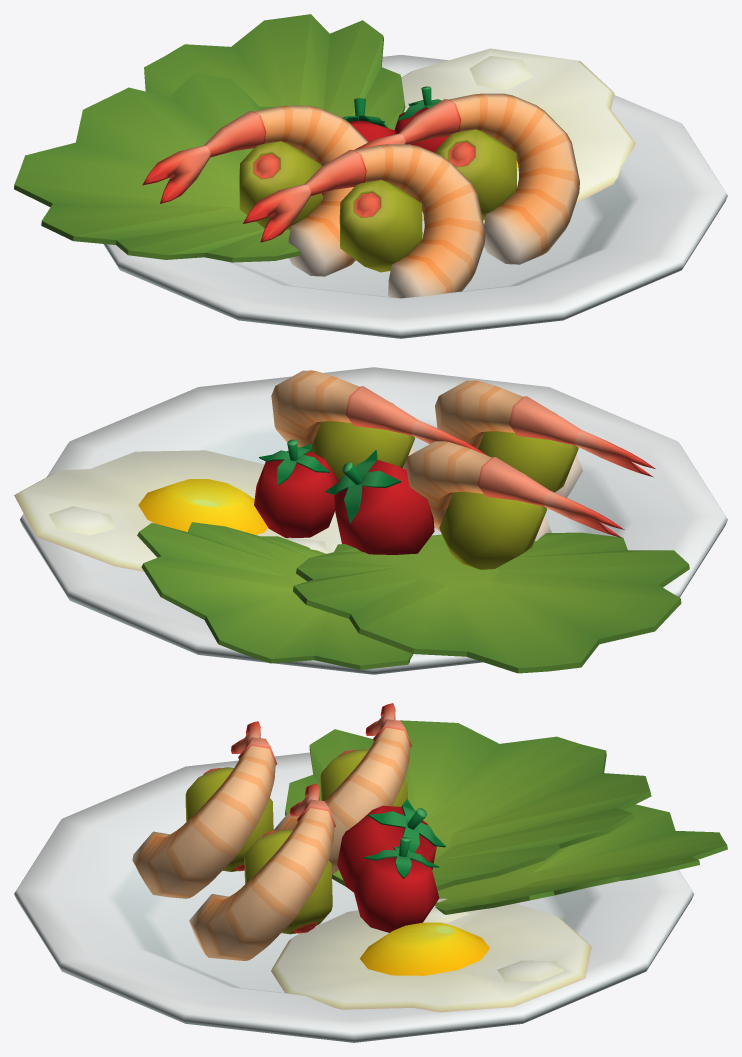
The model's file is CR_caf_Dish_007.FBX.
The picture shows the model from 3 angles, top to bottom: view 1: azimuth 30°, elevation 25°; view 2: azimuth 150°, elevation 25°; view 3: azimuth 270°, elevation 25°; orthographic projection. The views are drawn at different scales.
Visible parts, largest first — view 1: CR_caf_Dish_007; view 2: CR_caf_Dish_007; view 3: CR_caf_Dish_007.
Boxes of the visible parts, x1,y1,x2,y2 form: CR_caf_Dish_007: (14, 14, 727, 338); CR_caf_Dish_007: (14, 367, 727, 674); CR_caf_Dish_007: (14, 703, 727, 1042).
Bounding box in the file's own units: 32.27 × 7.72 × 32.36.
